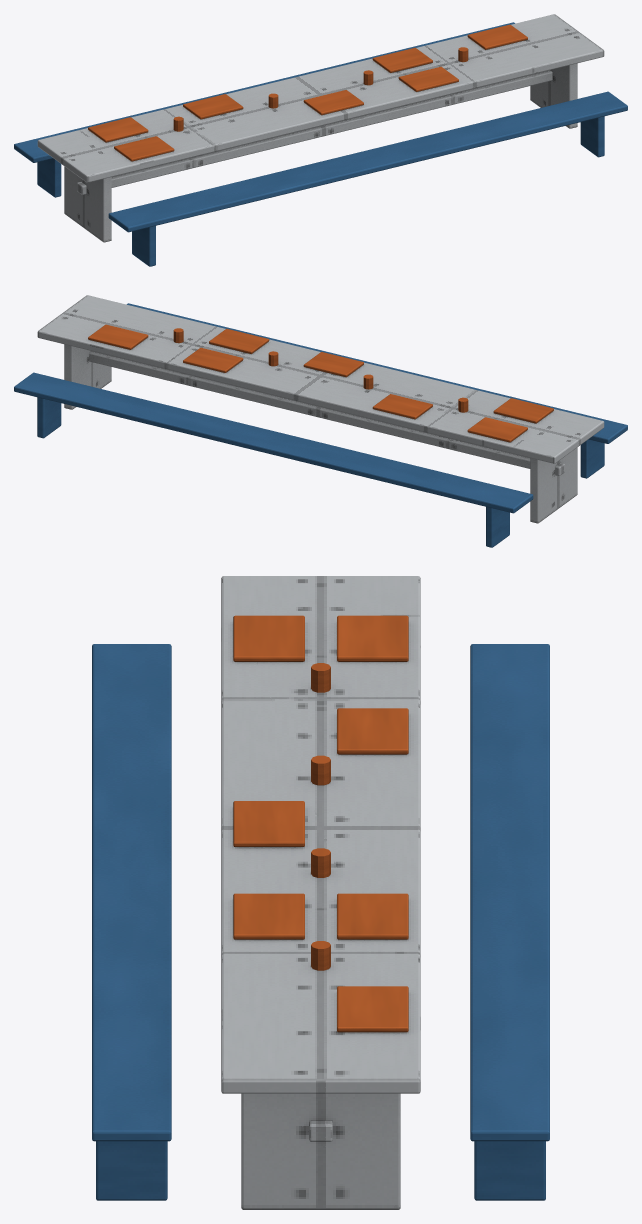
Rendered from base_mess_table.glb.
The picture shows the model from 3 angles, top to bottom: view 1: azimuth 30°, elevation 25°; view 2: azimuth 150°, elevation 25°; view 3: azimuth 270°, elevation 25°; orthographic projection. The views are drawn at different scales.
Parts seen in each view (by area): view 1: base_mess_table; view 2: base_mess_table; view 3: base_mess_table.
Boxes of the visible parts, x1=… form: base_mess_table: x1=14, y1=14, x2=627, y2=266; base_mess_table: x1=14, y1=295, x2=627, y2=547; base_mess_table: x1=92, y1=576, x2=549, y2=1209.
Size of the model in its own units: 6 by 0.96 by 2.3.
Materials: 3 (3 with a texture image).
